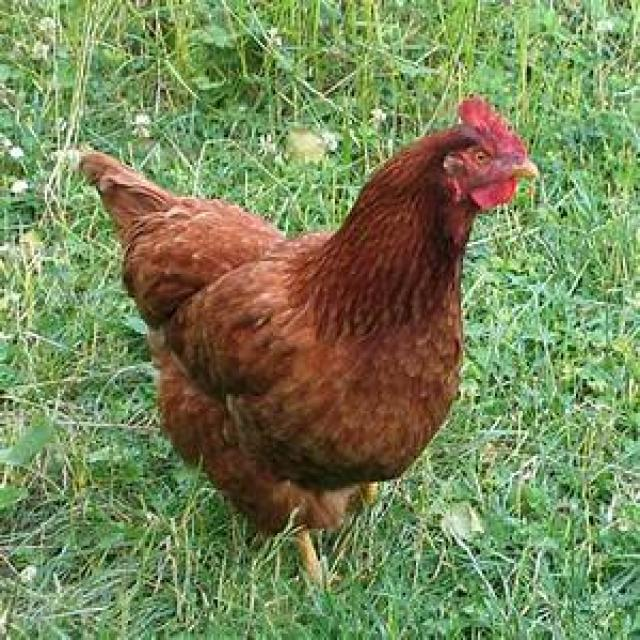hen: (81, 99, 538, 554)
